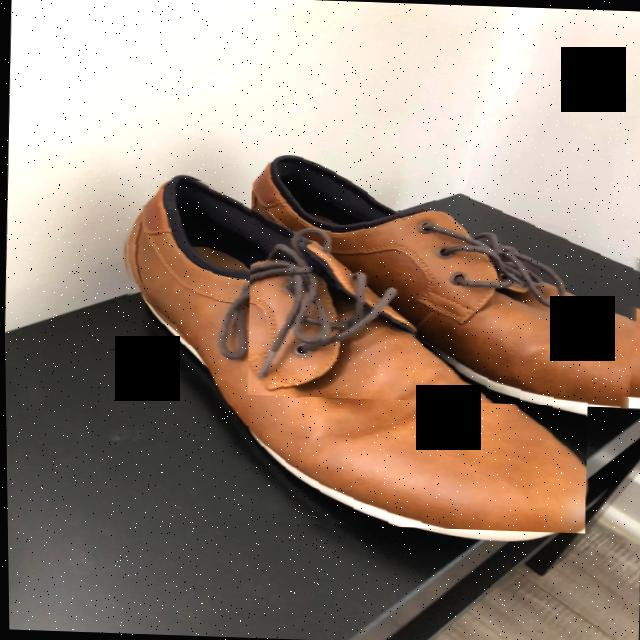shoe: (125, 179, 584, 533), (251, 155, 637, 408)
